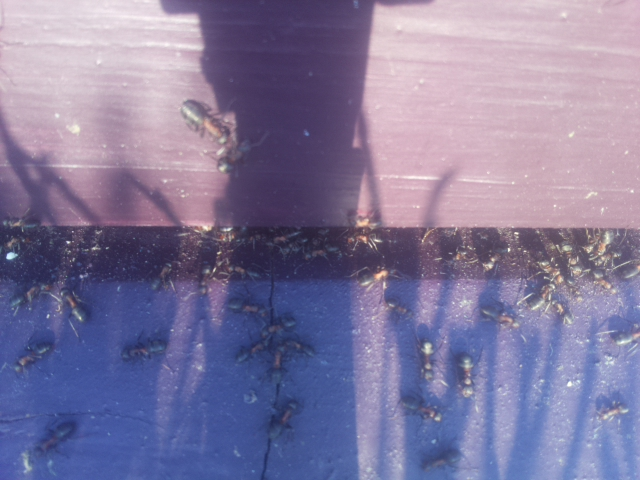ant: (166, 84, 238, 161), (407, 163, 470, 238), (339, 202, 391, 254), (262, 389, 306, 449), (212, 129, 260, 182), (243, 313, 297, 356), (5, 336, 59, 376), (28, 418, 79, 458), (396, 392, 446, 426), (471, 303, 527, 333), (58, 282, 90, 331), (542, 284, 575, 330), (416, 448, 469, 476), (449, 354, 484, 395), (123, 335, 173, 362), (410, 336, 441, 379), (352, 263, 405, 288), (147, 257, 180, 297), (8, 279, 41, 317), (224, 292, 268, 319), (590, 398, 635, 423), (268, 340, 287, 390)
